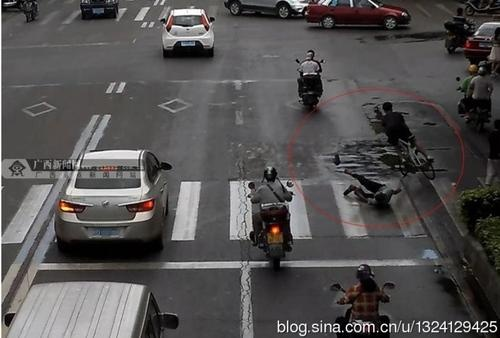falling: (340, 169, 403, 208)
